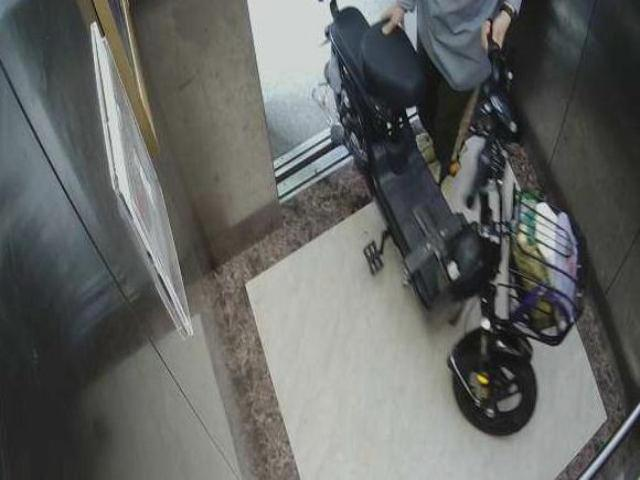emotor: (329, 11, 571, 461)
